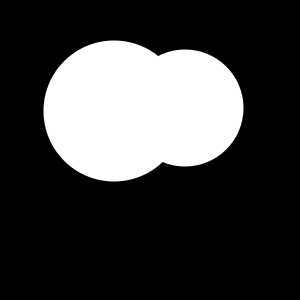rectangle: (44, 40, 184, 182), (126, 49, 244, 166)
